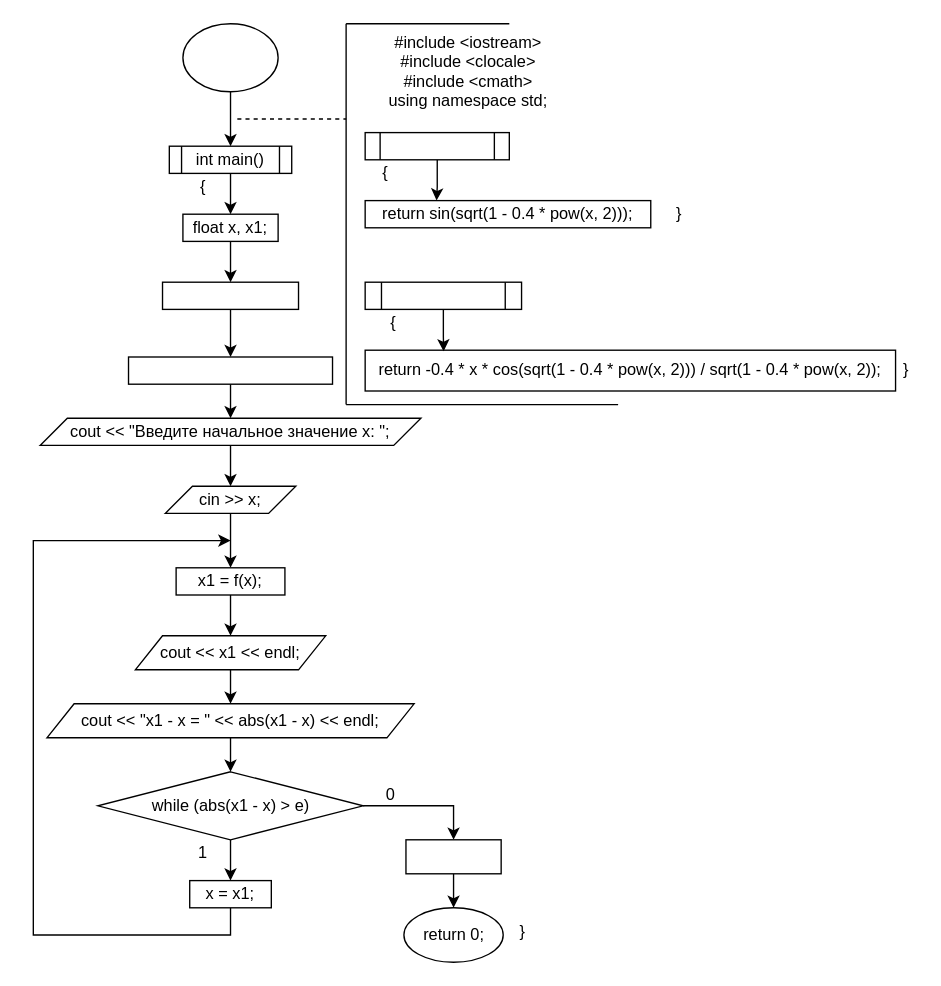
Image size: 941x986. Some labels were removed from this diagram. Here are the shapes that lost their labels. From the top down, the centre of each, then its label:
point 230,57: Начало
point 436,145: float f(float x)
point 230,295: float e = 0.001;
point 443,295: float f1(float x)
point 230,370: setlocale(LC_ALL,"rus");
point 453,856: cout << x1;
